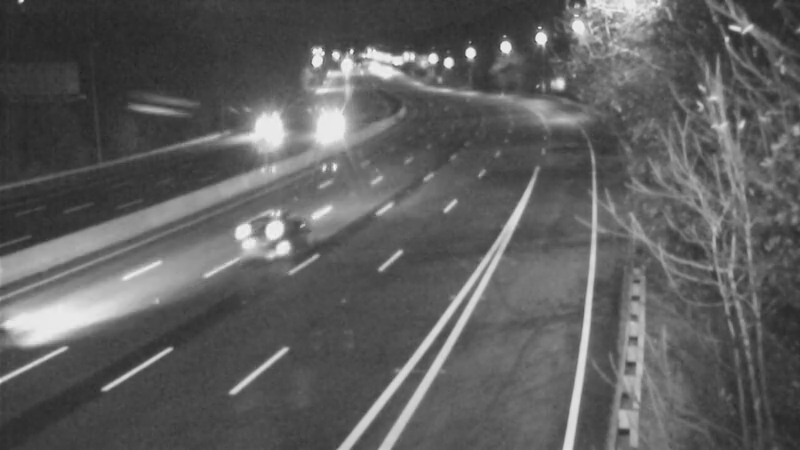vehicle: (225, 198, 305, 278), (251, 105, 301, 155), (300, 104, 350, 154)
